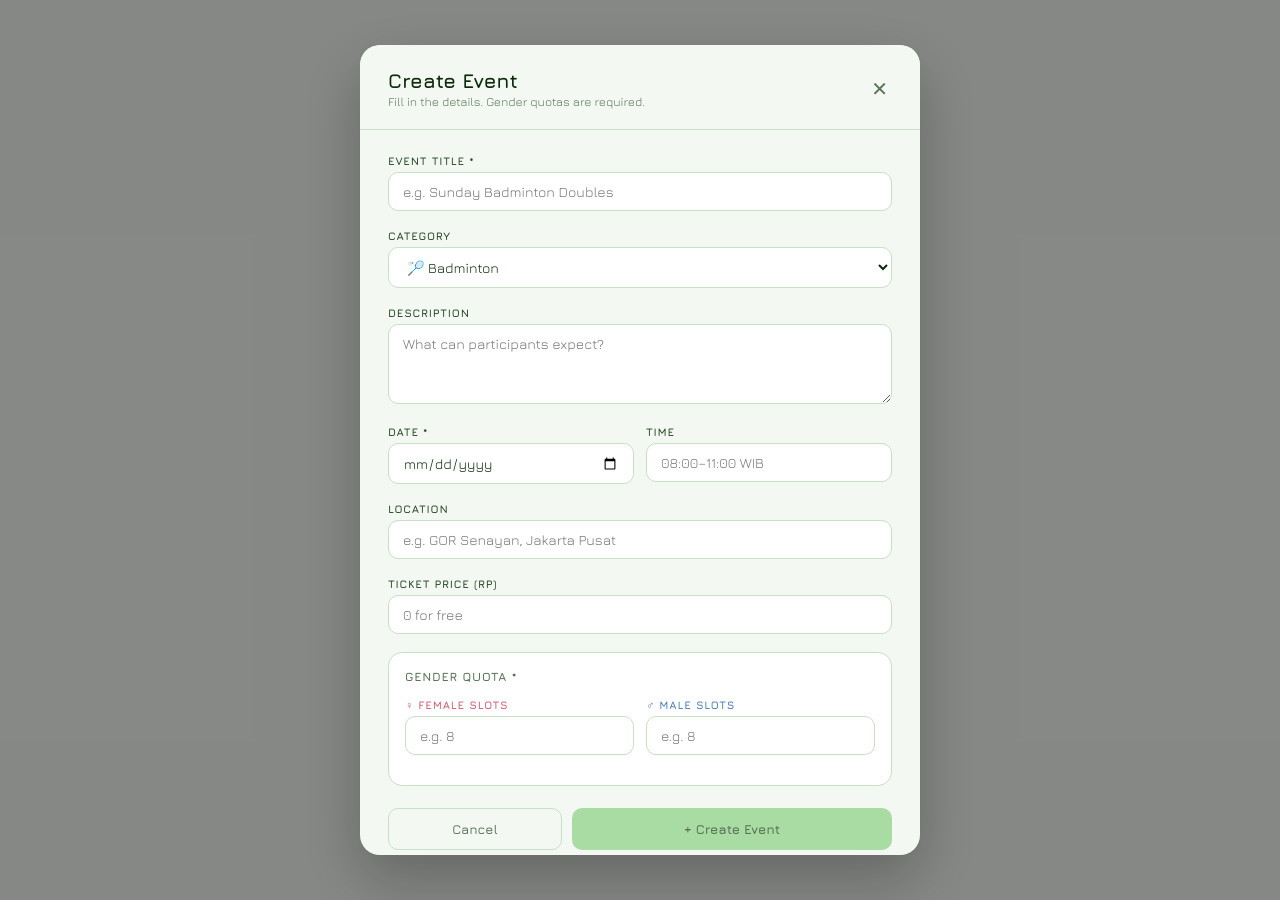
CreateEventForm — total slot counter › shows total slots when both female and male slots entered
Step 1. Type "8" into the number field with placeholder "e.g. 8" below "♀ Female Slots" → (520, 736), box [405,716,634,755]
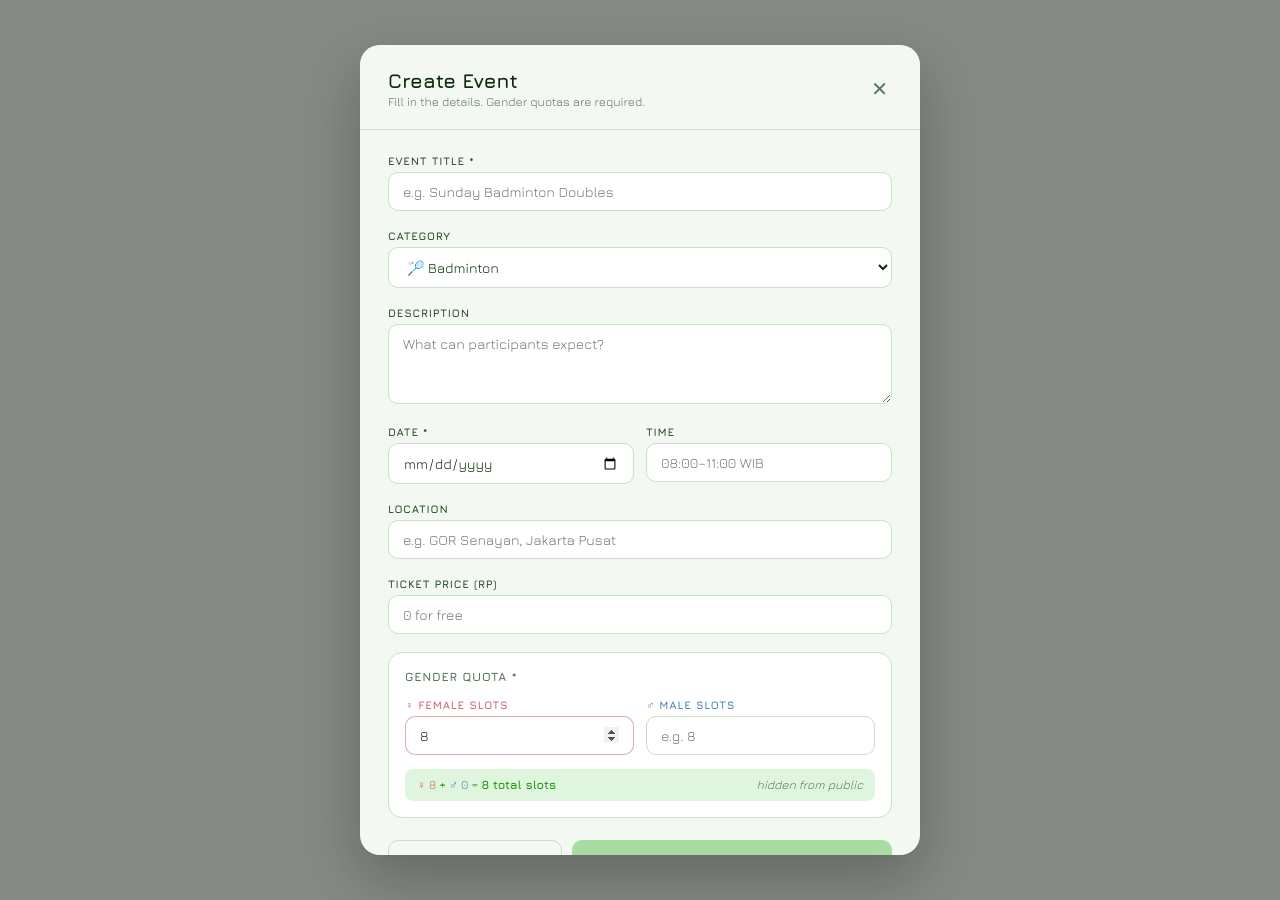
Step 2. Type "8" into the number field with placeholder "e.g. 8" → (760, 736), box [646,716,875,755]
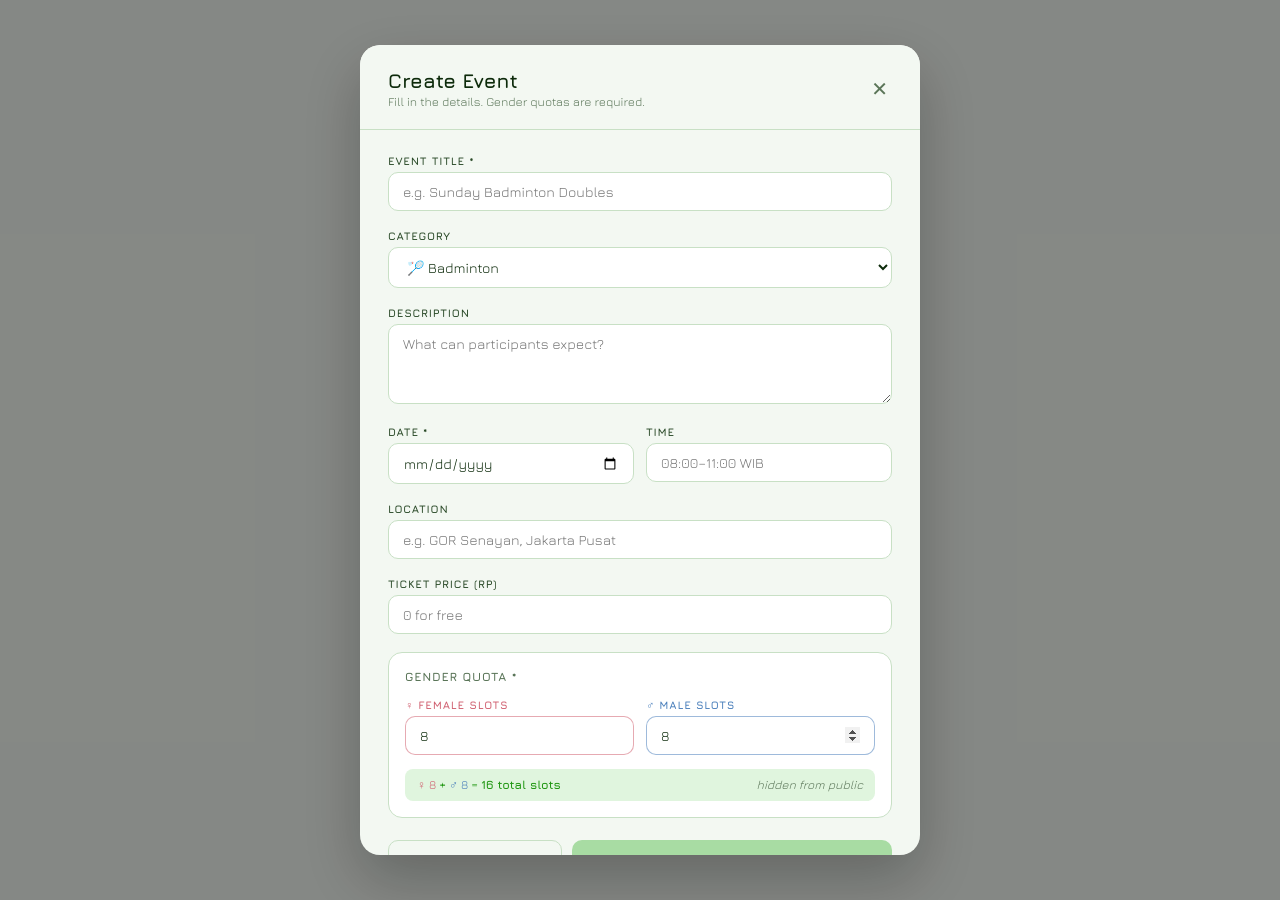
Expected: the text "16 total slots" is shown, [481,777,561,792]
